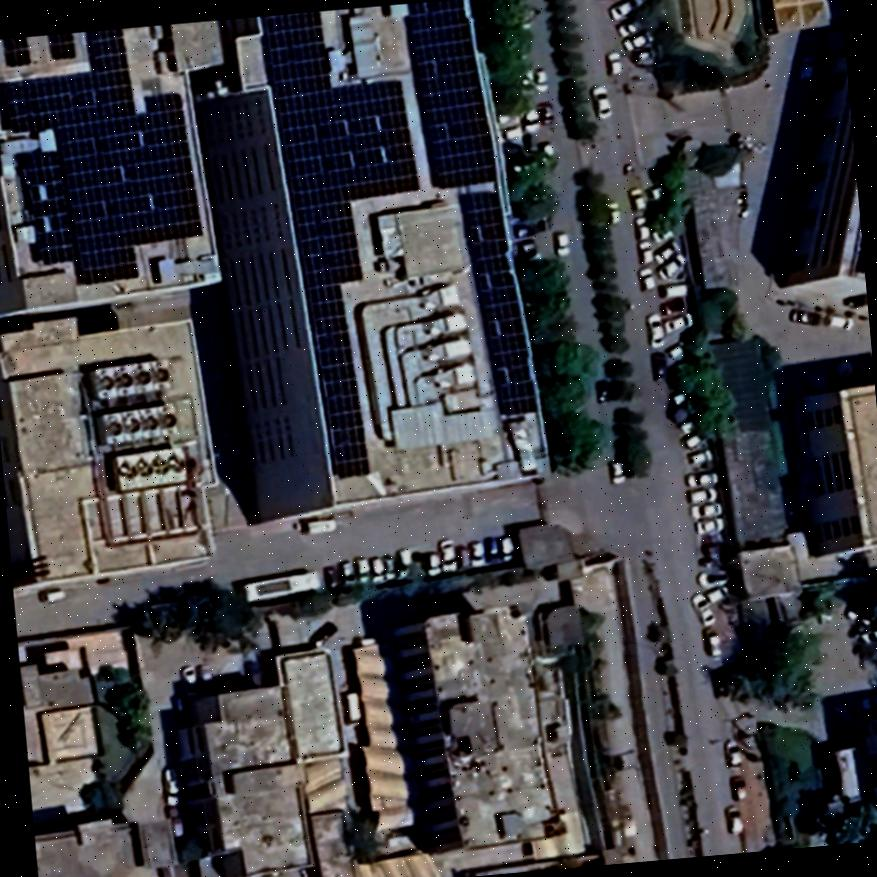Solarpanel: (251, 3, 461, 486), (0, 26, 210, 290), (456, 184, 541, 416), (397, 0, 500, 189)
